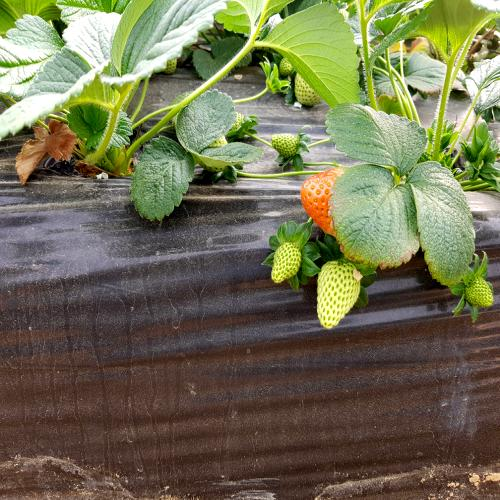partially-ripe: (294, 159, 380, 255)
